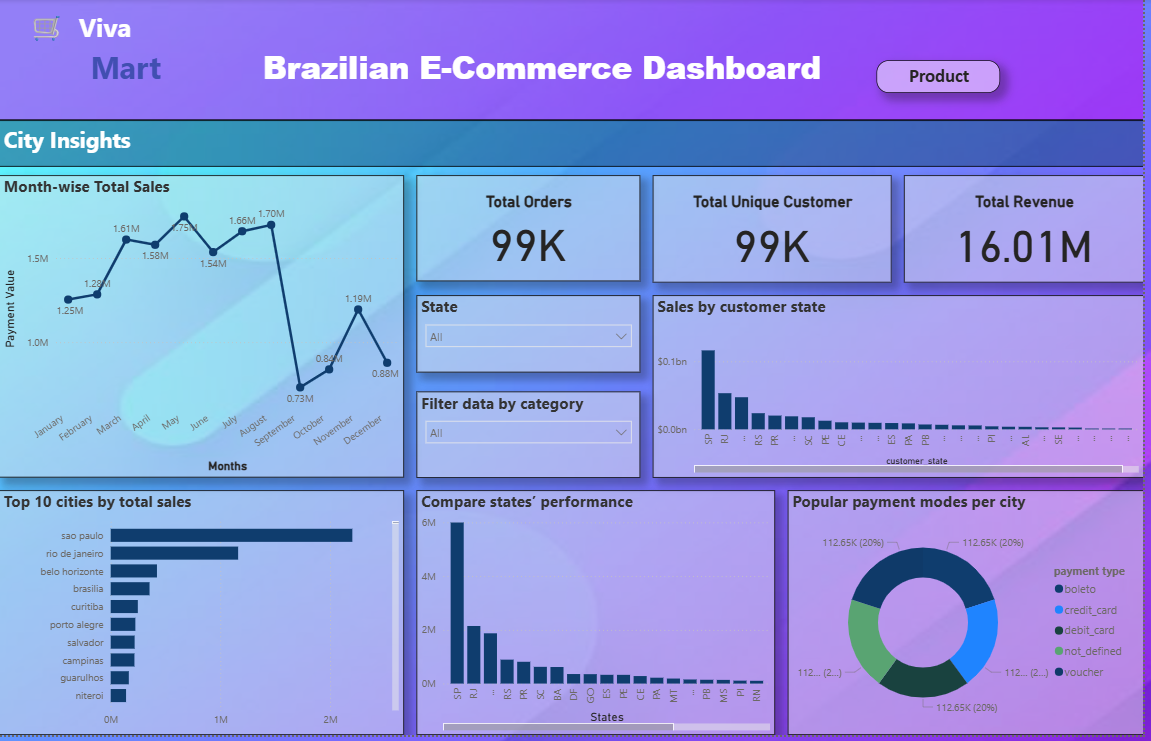

The page's visual inventory and layout, read from the dashboard file:
{"tool":"powerbi","page":{"name":"Page 1","canvas":[1400,900],"ordinal":0},"visuals":[{"type":"textbox","box":[0,0,1400.1,148.3],"z":0},{"type":"textbox","box":[0,148.3,1400.1,56.6],"z":1000},{"type":"barChart","title":"Top 10 cities by total sales","fields":{"Category":["customers.customer_city"],"Y":["Sum(payments.payment_value)"]},"box":[0,600.7,495.2,299.6],"z":2000},{"type":"columnChart","title":"Compare states’ performance","fields":{"Category":["customers.customer_state"],"Y":["Sum(payments.payment_value)"]},"box":[510.5,600.7,438.7,299.6],"z":3000},{"type":"donutChart","title":"Popular payment modes per city","fields":{"Category":["payments.payment_type"],"Y":["CountNonNull(order d.order_id)"]},"box":[964.5,600.7,435.6,299.6],"z":4000},{"type":"slicer","title":"State","fields":{"Values":["customers.customer_state"]},"box":[510.5,362.3,273.6,94.8],"z":5000},{"type":"card","title":"Total Unique Customer","fields":{"Values":["archive.Total Unique Customers"]},"box":[799.4,215.5,292,131.5],"z":6000},{"type":"card","title":"Total Orders","fields":{"Values":["archive.Total Orders"]},"box":[510.5,215.5,273.6,129.9],"z":7000},{"type":"card","title":"Total Revenue","fields":{"Values":["archive.Total Revenue"]},"box":[1106.7,215.5,293.5,131.5],"z":8000},{"type":"columnChart","title":"Sales by customer state","fields":{"Category":["customers.customer_state"],"Y":["Sum(order d.Sales)"]},"box":[799.4,362.3,600.7,223.2],"z":9000},{"type":"slicer","title":"Filter data by category","fields":{"Values":["products.product_category_name"]},"box":[510.5,480,273.6,105.5],"z":10000},{"type":"actionButton","title":"Product","box":[1073,74.9,151.3,39.7],"z":11000},{"type":"lineChart","title":"Month-wise Total Sales","fields":{"Category":["orders.order_purchase_timestamp.Variation.Date Hierarchy.Month"],"Y":["Sum(payments.payment_value)"]},"box":[0,215.5,495.2,369.9],"z":12000}]}

Visuals, with their boxes in screenshot pixels (x1, y1, x2, y2), scaled from the page's 1400x900 canvas onto the 1151x741 screenshot:
textbox: 0:0:1150:122
textbox: 0:122:1150:169
"Top 10 cities by total sales" barChart: 0:495:407:740
"Compare states’ performance" columnChart: 420:495:780:740
"Popular payment modes per city" donutChart: 793:495:1150:740
"State" slicer: 420:298:645:376
"Total Unique Customer" card: 657:177:897:286
"Total Orders" card: 420:177:645:284
"Total Revenue" card: 910:177:1150:286
"Sales by customer state" columnChart: 657:298:1150:482
"Filter data by category" slicer: 420:395:645:482
"Product" actionButton: 882:62:1007:94
"Month-wise Total Sales" lineChart: 0:177:407:482
